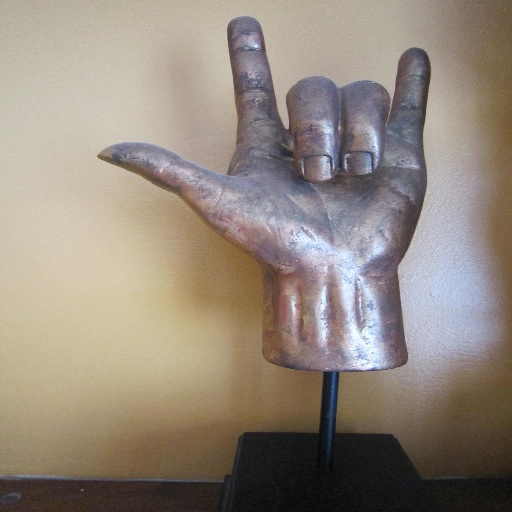hand: (95, 15, 431, 277)
